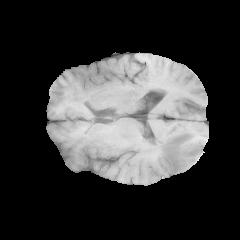glioma: (129, 132, 205, 185)
